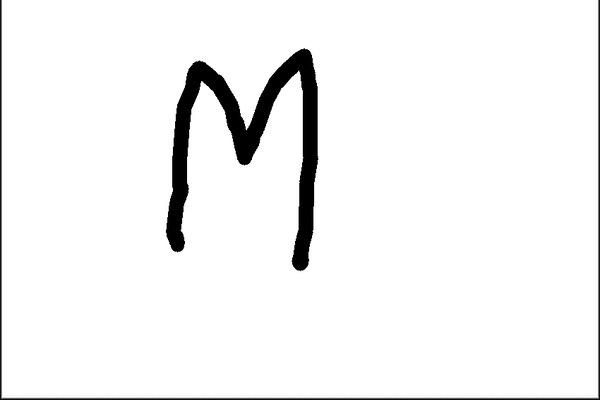M: (164, 46, 319, 273)
